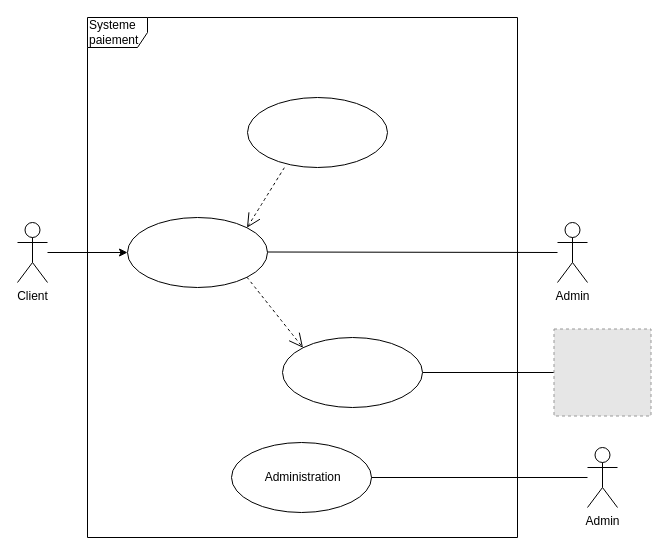
This 669x555 diagram has some shape labels left out. Grey dashed boxes stand in for pictures. The shapes that lost their labels are listed below. From the top down, each one's box as (x1, y1, x2, y2) in pixels, then its label:
(246, 96, 388, 168): Service a la clientele
(126, 216, 268, 288): Reservation
(282, 336, 422, 408): Payement
